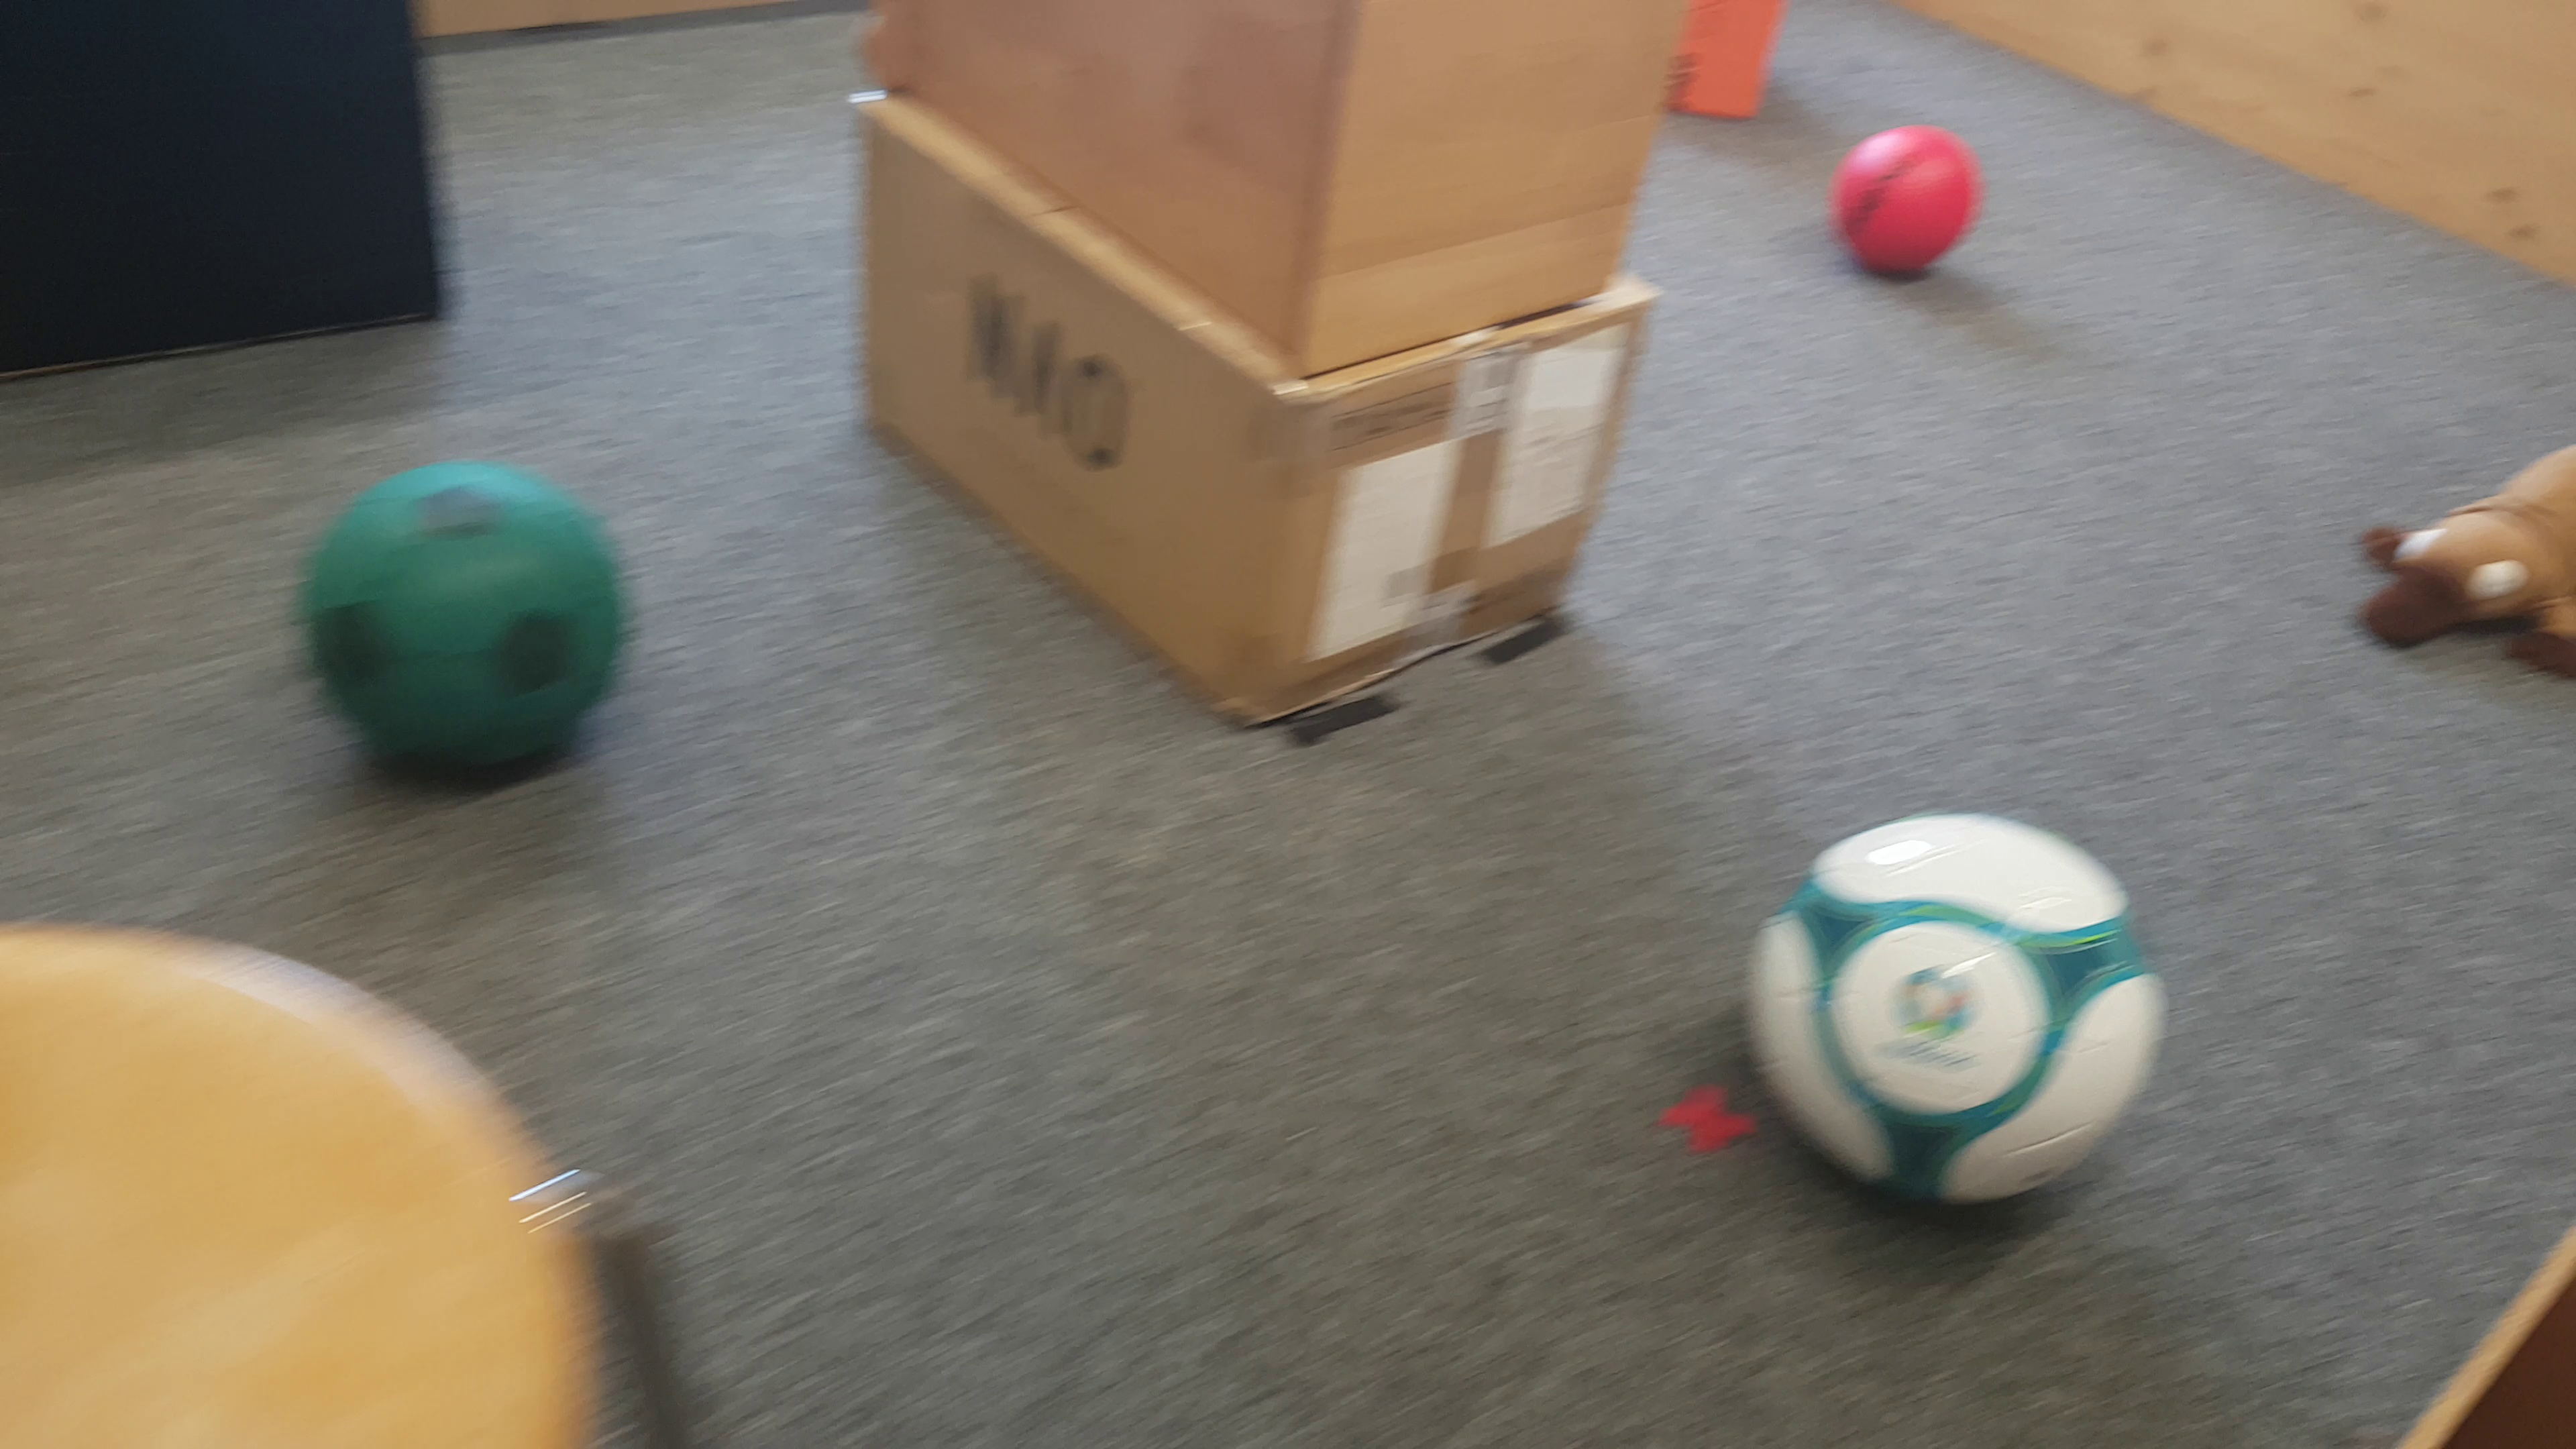grasp: (2360, 400, 2576, 679)
kick: (1752, 810, 2167, 1214), (303, 464, 623, 773), (1836, 126, 1976, 290)
push: (9, 12, 448, 372)
